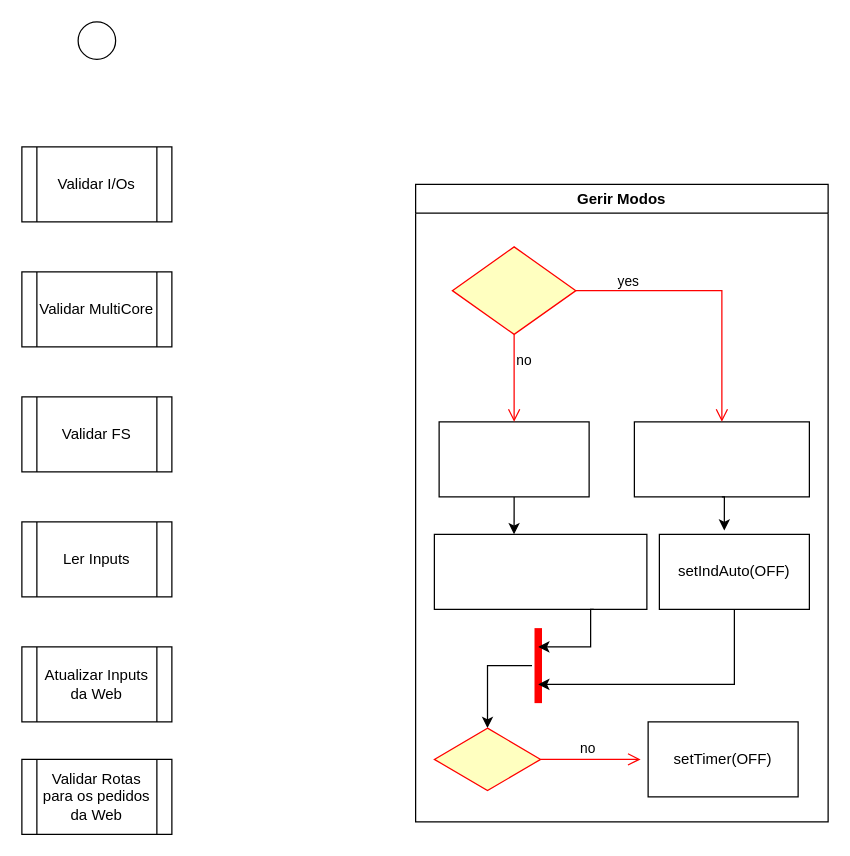
Some shapes in this 850 by 856 pixel diagram are drawn without their labels. The shapes that lost their labels are listed below. From the top down, each one's box as (x1, y1, x2, y2) in pixels, then its label:
(451, 246, 576, 334): isManualMode
(438, 421, 589, 497): ToggleAutoMode
(633, 421, 809, 497): setAutoModeWeb(OFF)
(433, 533, 647, 609): setIndAuto(getAutoModeWeb)
(433, 727, 541, 791): isAutoMode
